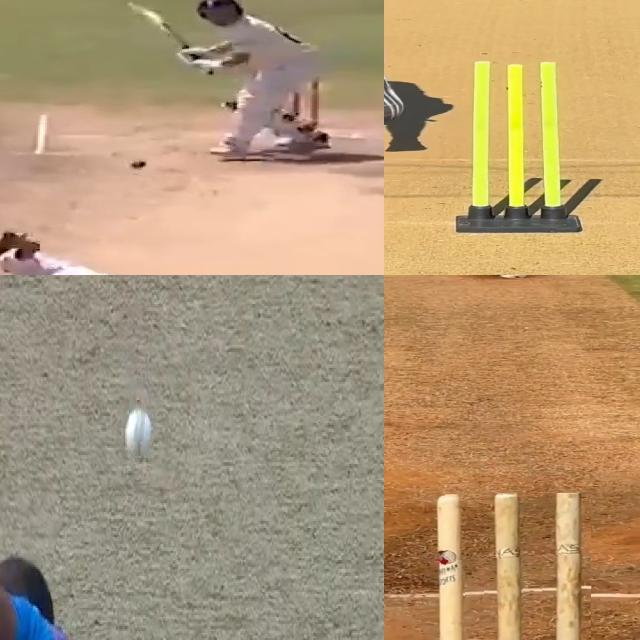Cricket ball: (124, 406, 153, 462), (129, 159, 149, 170)
Stumps: (434, 493, 591, 640), (459, 62, 582, 235)
